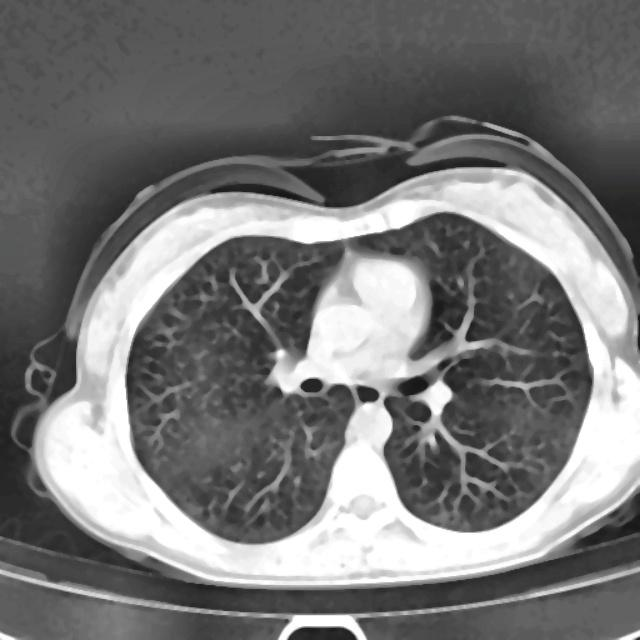covid: (14, 115, 638, 590)
